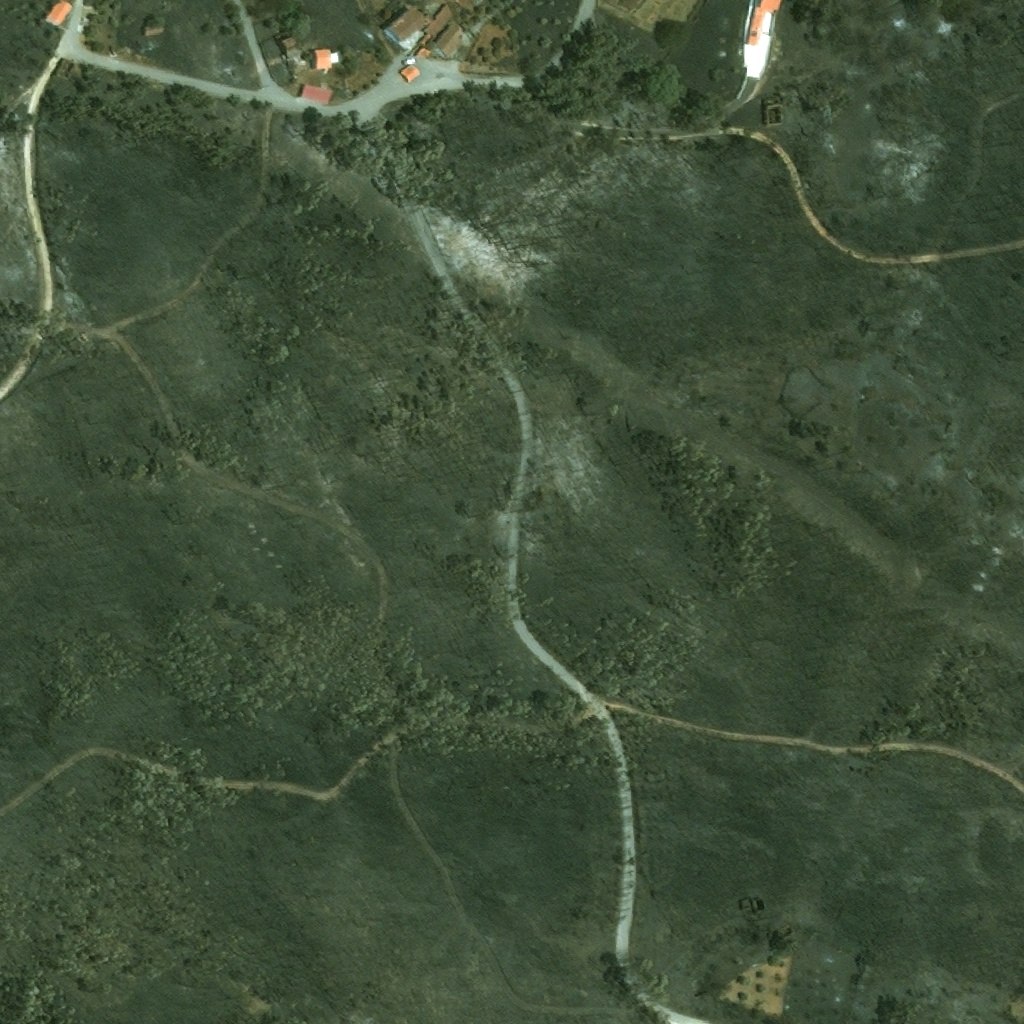0 no-damage: (379, 5, 429, 46), (744, 0, 782, 46), (432, 19, 469, 59), (423, 0, 460, 37), (42, 0, 71, 27), (308, 49, 339, 70), (299, 84, 331, 103), (139, 22, 166, 40), (397, 63, 420, 82)
2 major-damage: (280, 33, 301, 55)
